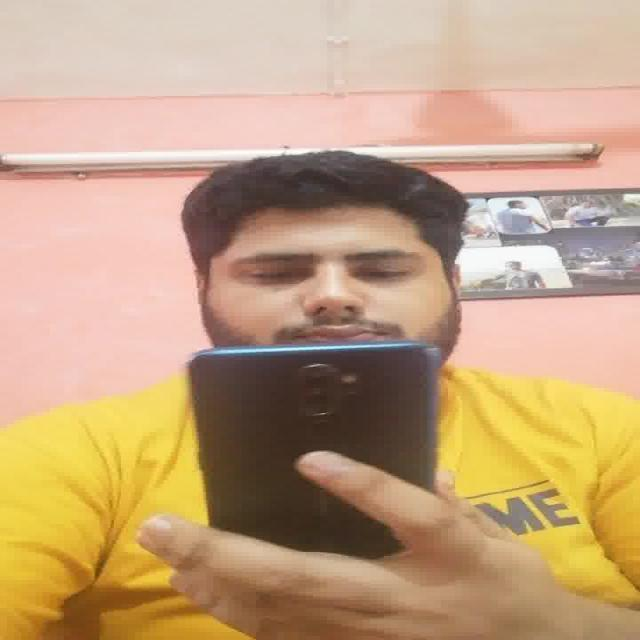Phone: (187, 337, 441, 562)
